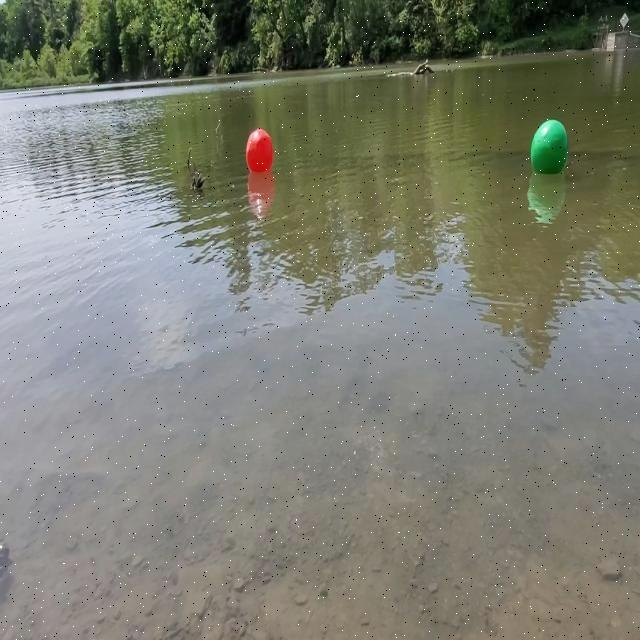buoy: (530, 117, 570, 180), (247, 128, 274, 178)
